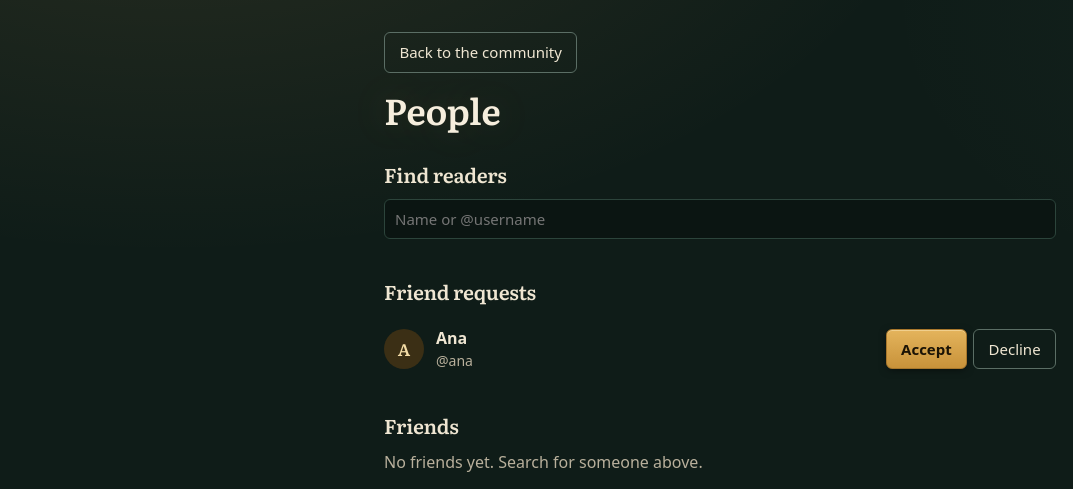
people › acceptingARequestAsksTheServerAndRefreshes
This screenshot has width=1073, height=489.
Click the button with aria-label "Accept Ana" at (926, 349), box [886,329,967,369]
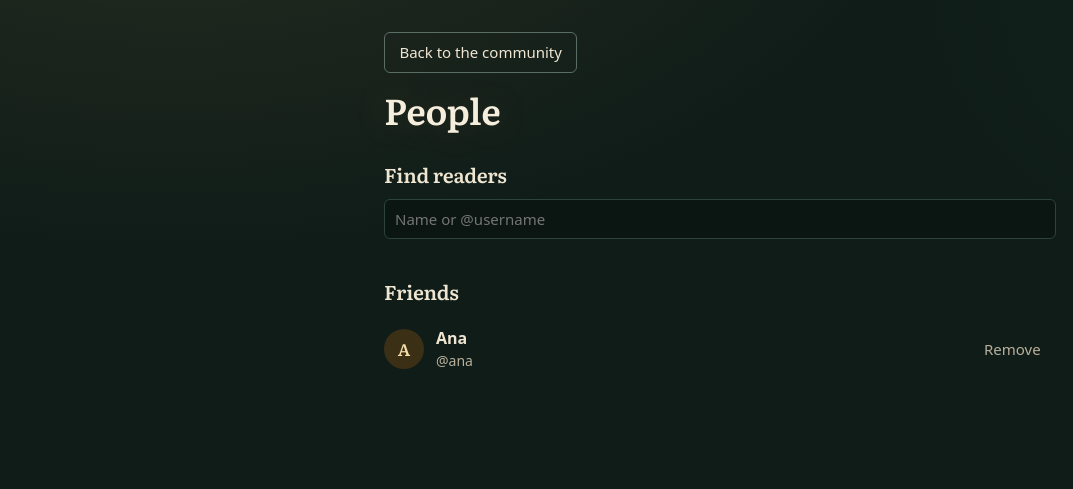
Result: the button with aria-label "Remove Ana" is shown at [968,329,1056,369]
